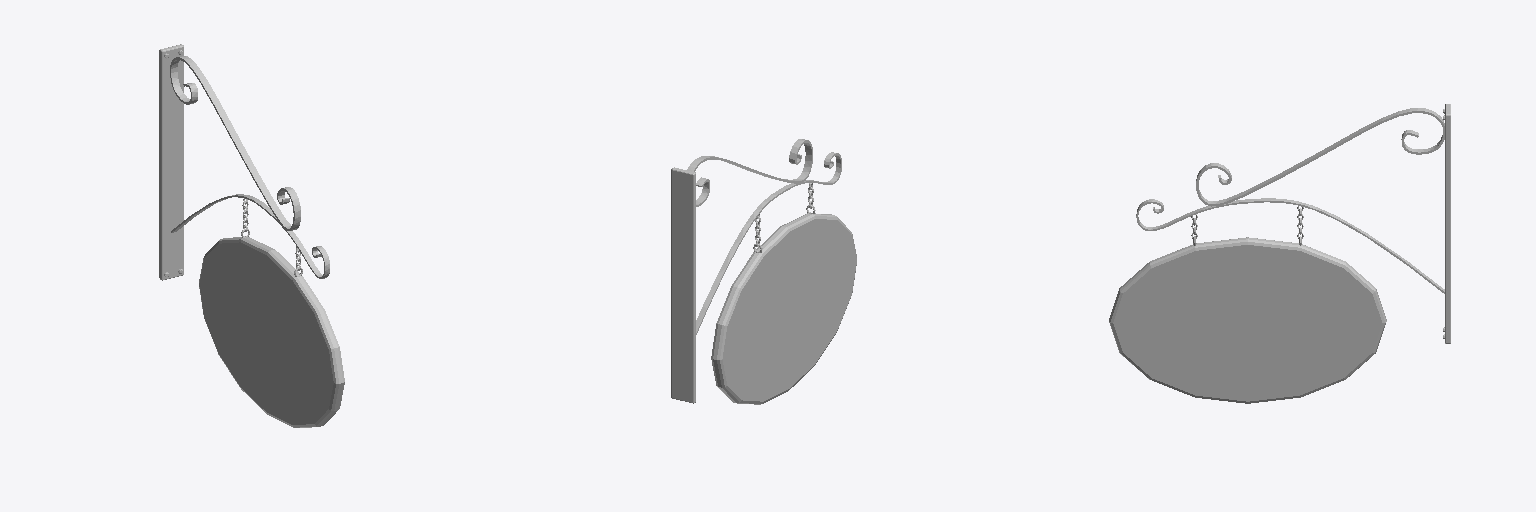
Rendered from sign.obj.
The picture shows the model from 3 angles: view 1: azimuth 30°, elevation 25°; view 2: azimuth 150°, elevation 25°; view 3: azimuth 270°, elevation 25°; orthographic projection.
Parts seen in each view (by area): view 1: Sign_Cube; view 2: Sign_Cube; view 3: Sign_Cube.
Part boxes in pixels (x1,y1,x2,y2): Sign_Cube: (159, 44, 344, 427); Sign_Cube: (671, 139, 856, 404); Sign_Cube: (1109, 104, 1450, 403).
Size of the model in its own units: 0.8867 by 10.79 by 11.39.